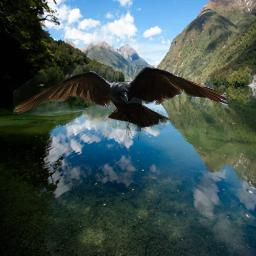Crow: (13, 65, 229, 140)
